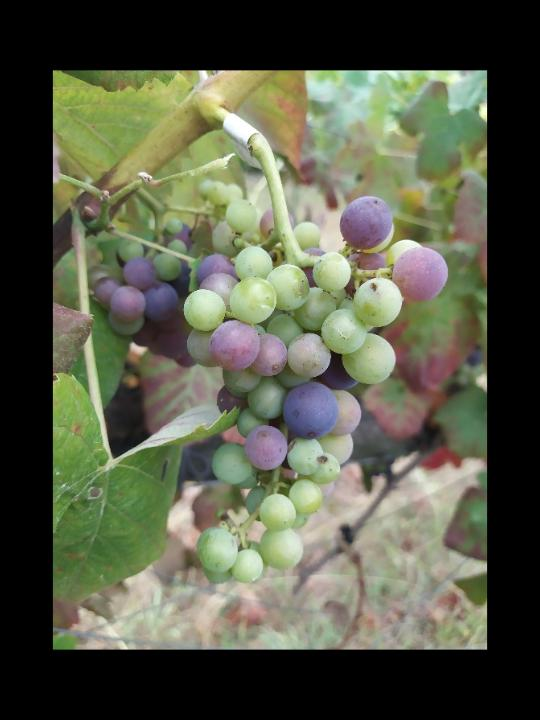grape: (181, 193, 449, 586)
